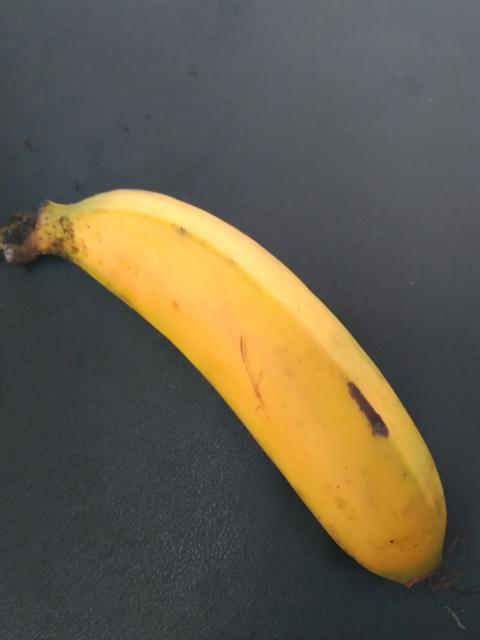freshripe: (34, 174, 479, 590)
